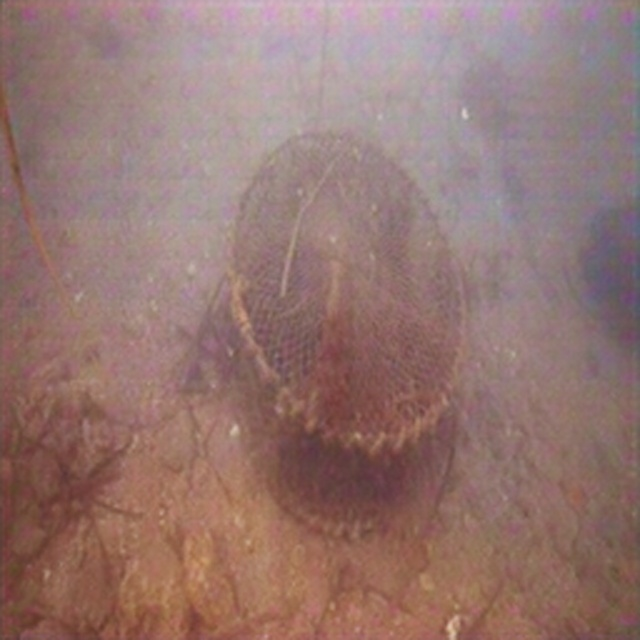mine: (226, 127, 466, 538)
